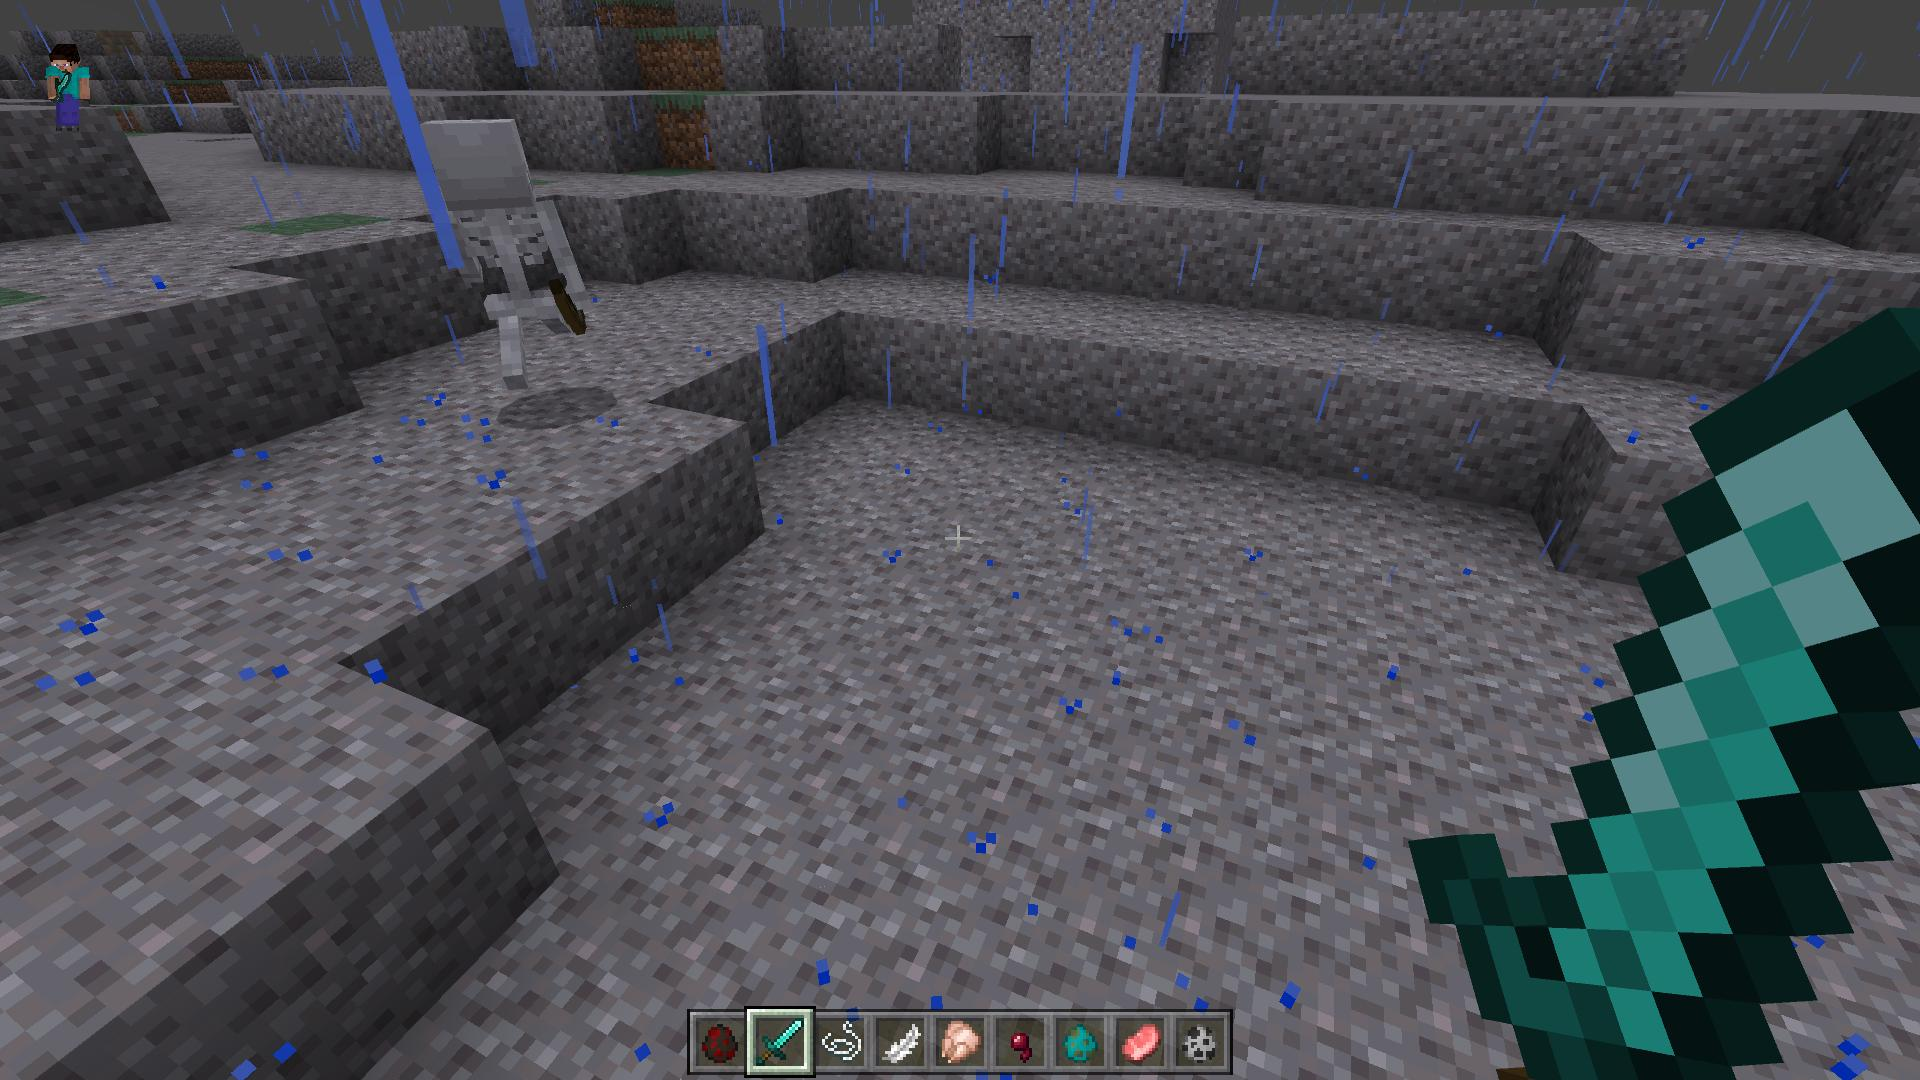skeleton: (410, 115, 596, 393)
